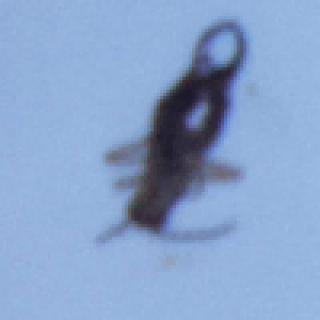earwig: (89, 17, 252, 254)
